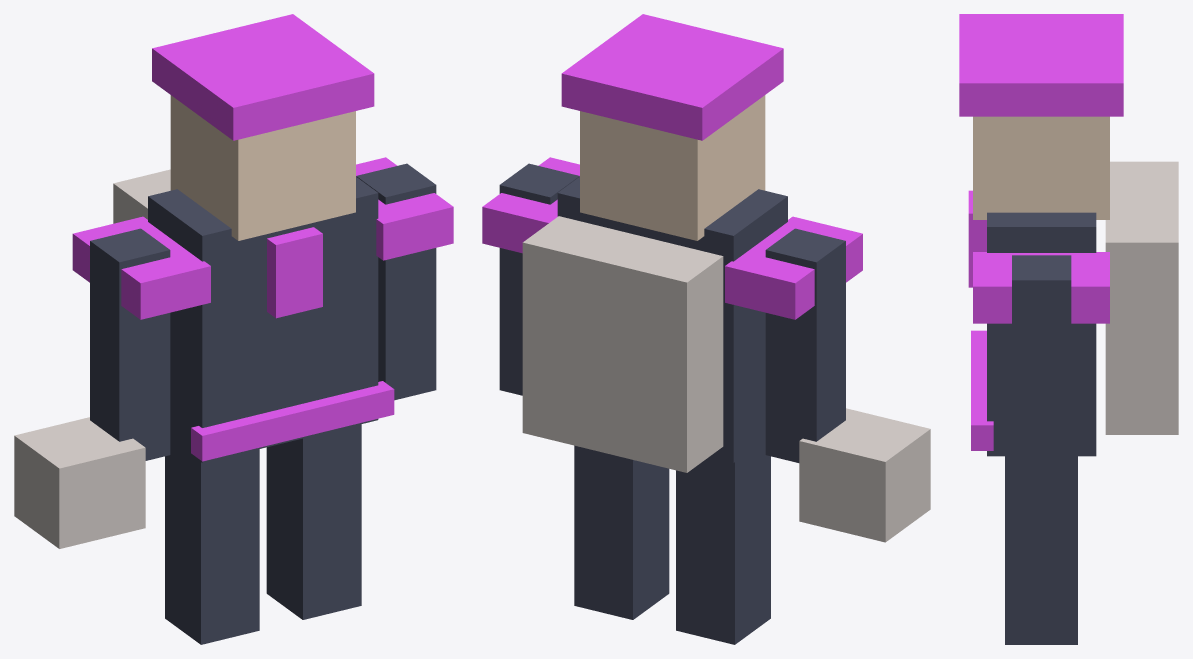
Rendered from 15_kiva_voidrill_captain_at_toll.glb.
3 renders of one model, left to right at view 1: azimuth 30°, elevation 25°; view 2: azimuth 150°, elevation 25°; view 3: azimuth 270°, elevation 25°, orthographic.
Parts seen in each view (by area): view 1: Kiva Voidrill, Captain at Toll; view 2: Kiva Voidrill, Captain at Toll; view 3: Kiva Voidrill, Captain at Toll.
Part boxes in pixels (bbox=[...]): Kiva Voidrill, Captain at Toll: bbox=[14, 14, 453, 644]; Kiva Voidrill, Captain at Toll: bbox=[482, 14, 930, 644]; Kiva Voidrill, Captain at Toll: bbox=[959, 14, 1178, 644].
Bounding box in the file's own units: 1.06 × 1.43 × 0.5116.
